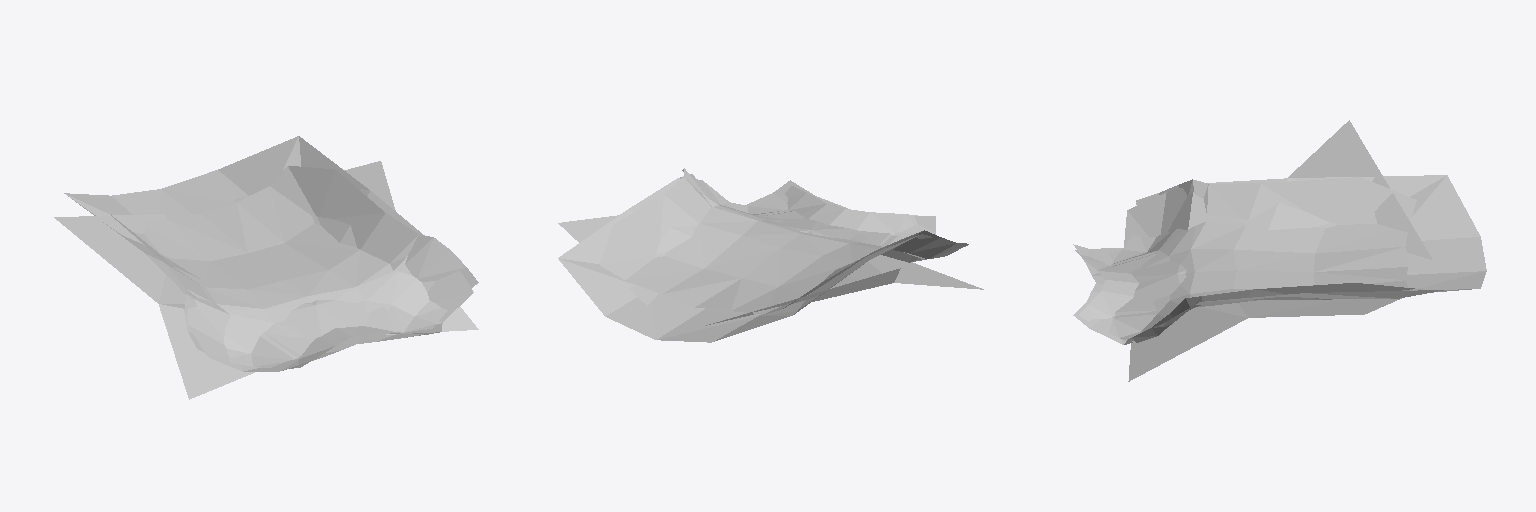
File: decl_000_u.obj
3 views of the same model, side by side, from view 1: azimuth 30°, elevation 25°; view 2: azimuth 150°, elevation 25°; view 3: azimuth 270°, elevation 25° (orthographic).
Parts seen in each view (by area): view 1: decl_000_u_high_1, decl_000_u_med_1, decl_000_u_low_1; view 2: decl_000_u_high_1, decl_000_u_med_1, decl_000_u_low_1; view 3: decl_000_u_high_1, decl_000_u_med_1, decl_000_u_low_1.
Part boxes in pixels (x1,y1,x2,y2): decl_000_u_high_1: (107, 166, 478, 368); decl_000_u_med_1: (64, 136, 473, 371); decl_000_u_low_1: (54, 161, 478, 399); decl_000_u_high_1: (600, 168, 968, 314); decl_000_u_med_1: (558, 177, 967, 342); decl_000_u_low_1: (558, 215, 983, 325); decl_000_u_high_1: (1075, 177, 1416, 342); decl_000_u_med_1: (1073, 175, 1486, 344); decl_000_u_low_1: (1128, 120, 1432, 381).
Size of the model in its own units: 0.2876 by 0.0889 by 0.3071.